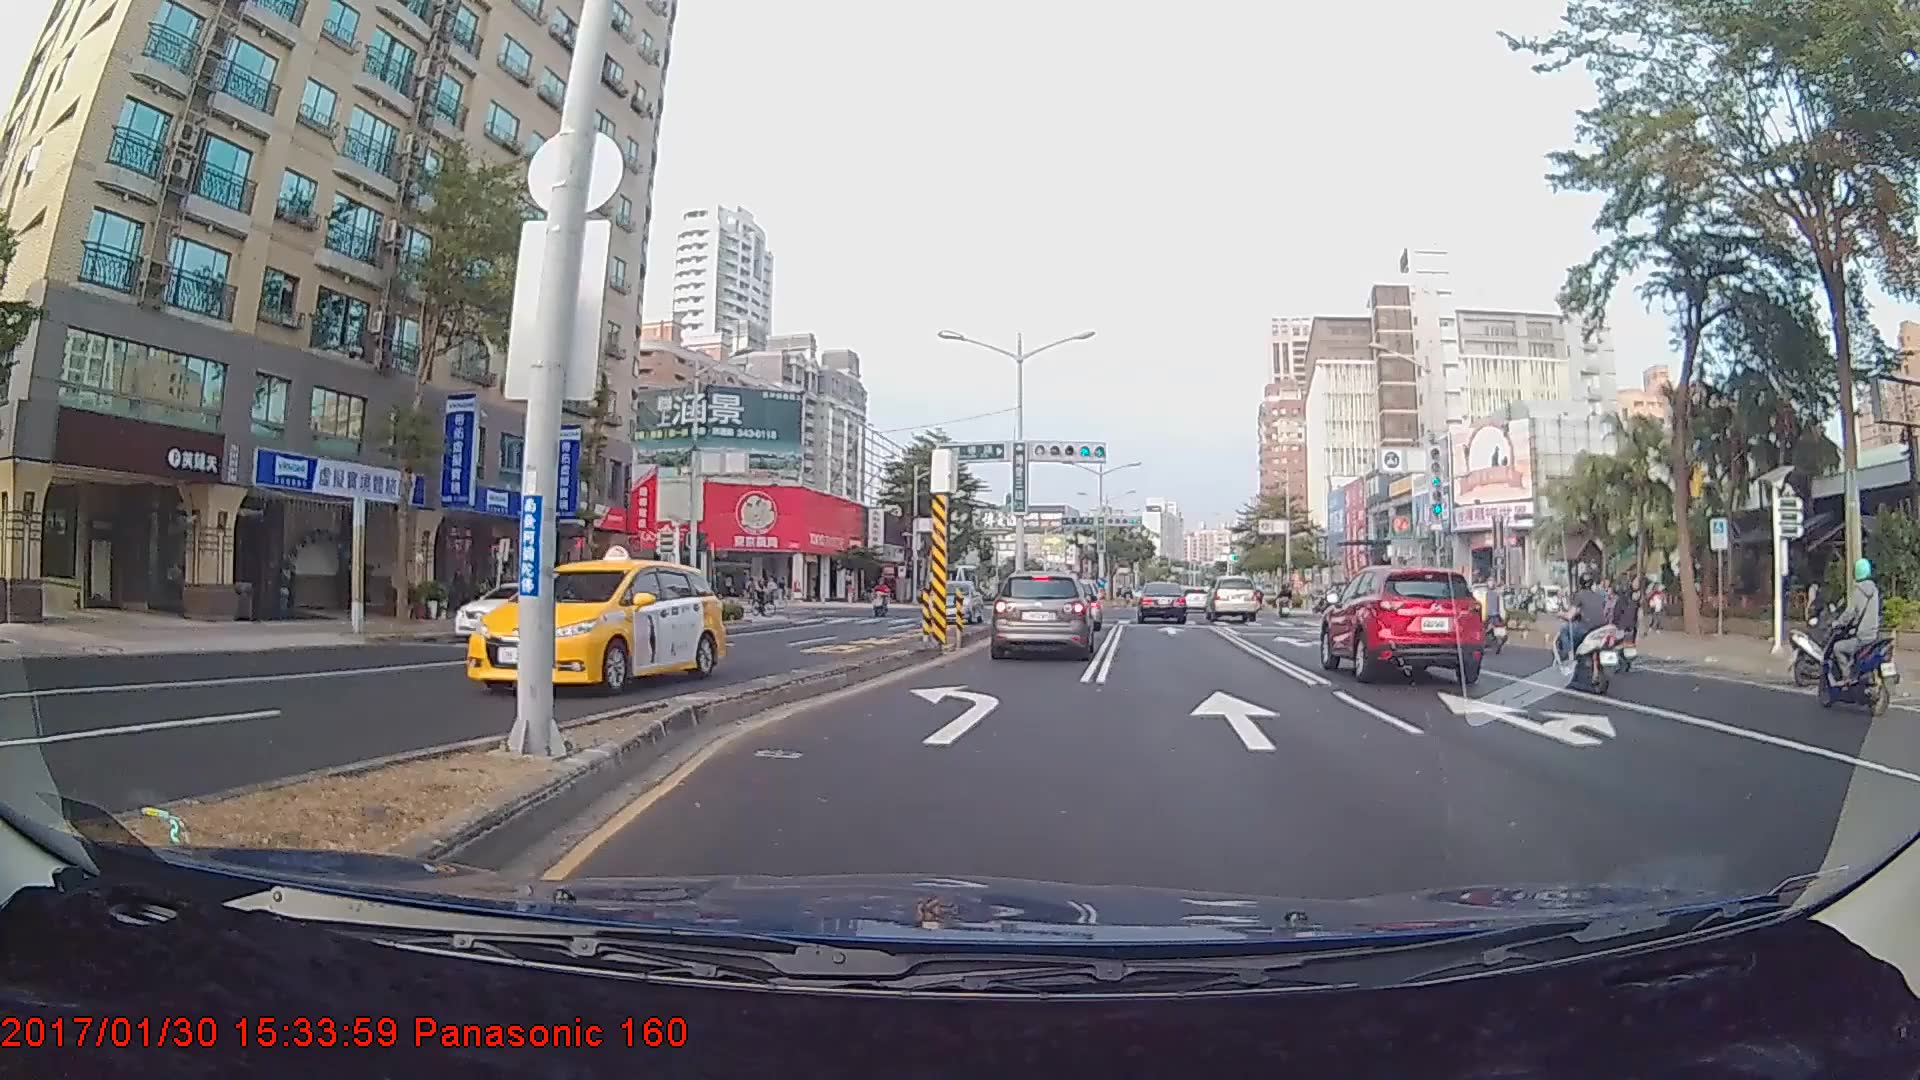rider: (1809, 557, 1895, 726), (1551, 568, 1630, 692)
vehicle: (463, 560, 721, 694), (1321, 560, 1485, 683), (991, 571, 1093, 660), (459, 579, 592, 644), (920, 579, 983, 622), (1204, 575, 1260, 623), (1136, 582, 1187, 624)
